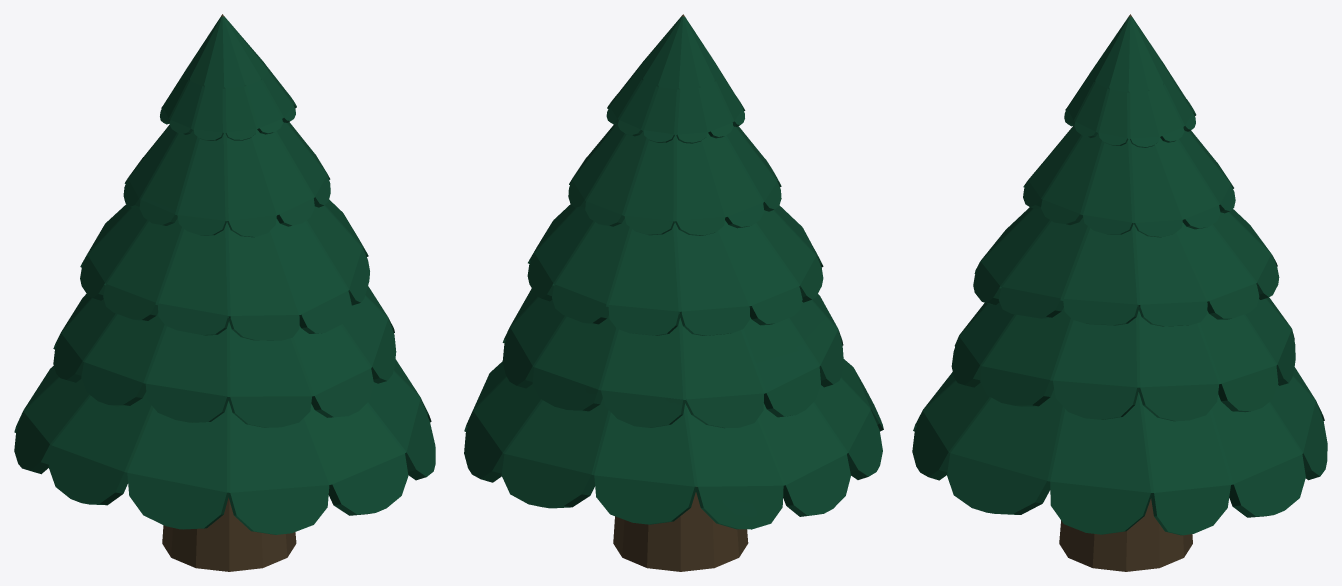
Rendered from Pino3.fbx.
3 renders of one model, left to right at view 1: azimuth 30°, elevation 25°; view 2: azimuth 150°, elevation 25°; view 3: azimuth 270°, elevation 25°, orthographic.
Visible parts, largest first — view 1: PinoVariation3Exportable; view 2: PinoVariation3Exportable; view 3: PinoVariation3Exportable.
Boxes of the visible parts, x1=… form: PinoVariation3Exportable: x1=14, y1=14, x2=435, y2=571; PinoVariation3Exportable: x1=464, y1=14, x2=883, y2=571; PinoVariation3Exportable: x1=912, y1=14, x2=1327, y2=571.
Bounding box in the file's own units: 1494 × 2059 × 1470.
Materials: 1 (1 with a texture image).
